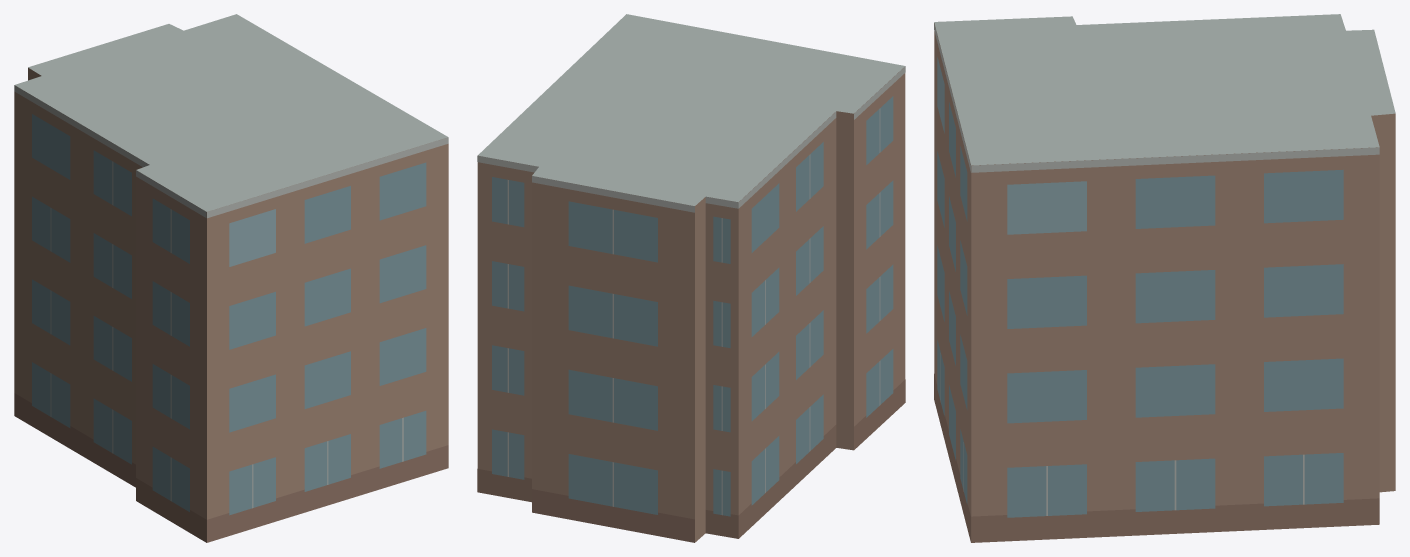
File: survey-upis-32636179.glb
3 renders of one model, left to right at view 1: azimuth 30°, elevation 25°; view 2: azimuth 150°, elevation 25°; view 3: azimuth 270°, elevation 25°, orthographic. The views are drawn at different scales.
Parts seen in each view (by area): view 1: survey-upis-32636179.tmp; view 2: survey-upis-32636179.tmp; view 3: survey-upis-32636179.tmp.
Boxes of the visible parts, box(x1,y1,x2,y2) form: survey-upis-32636179.tmp: box(14, 14, 448, 542); survey-upis-32636179.tmp: box(477, 14, 905, 542); survey-upis-32636179.tmp: box(934, 14, 1395, 542).
Bounding box in the file's own units: 10.77 × 12.5 × 13.87.
